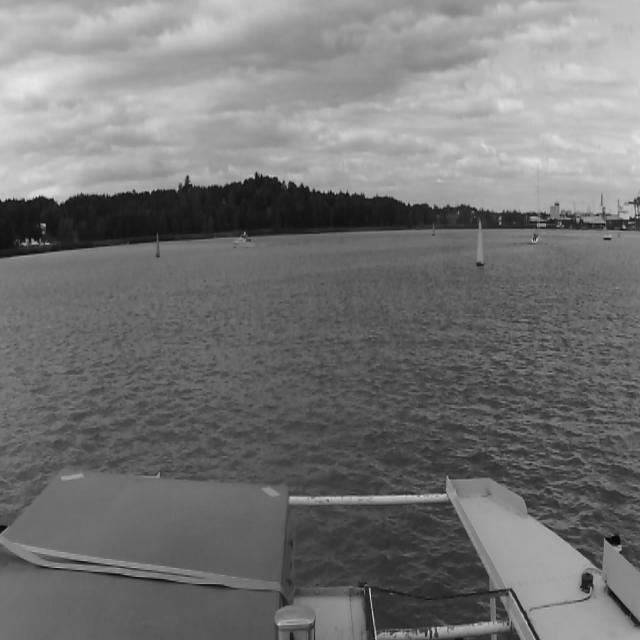buoy: (476, 218, 484, 268), (154, 233, 160, 260), (432, 222, 434, 236)
ship: (530, 162, 544, 245), (233, 233, 255, 249), (603, 234, 612, 241)
